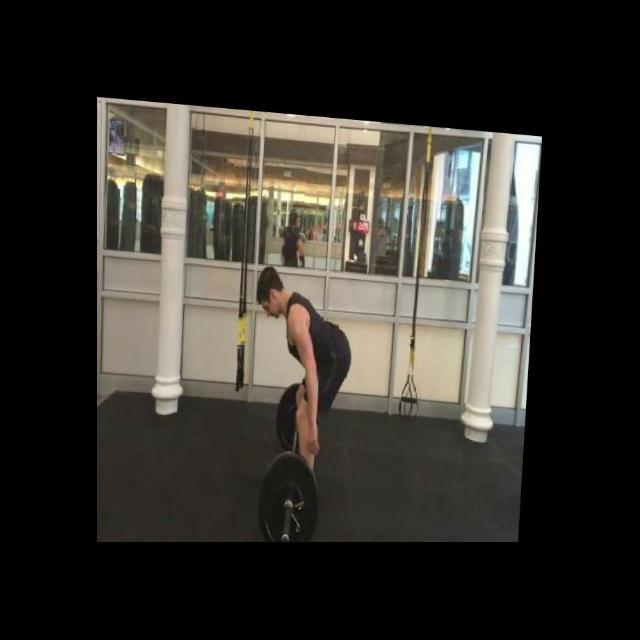barbell: (257, 443, 330, 542)
